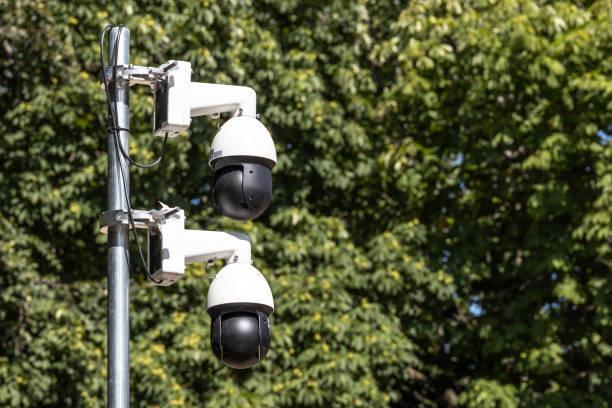camera: (196, 66, 278, 225), (201, 232, 278, 392)
